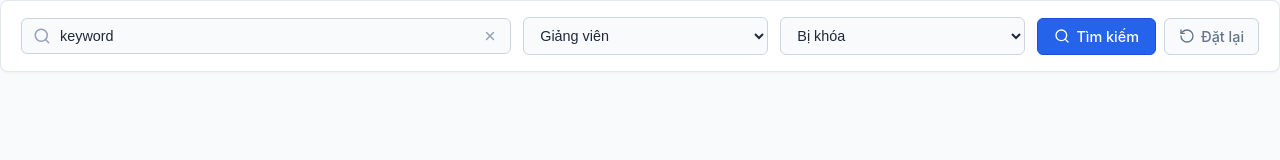
Scenario: SCRUM-91: User Filter Bar Component › 7. click nút Đặt lại xóa toàn bộ bộ lọc về mặc định
This screenshot has width=1280, height=160.
Click the button with test id "btn-filter-reset" at (1212, 36), box [1164, 18, 1259, 54]
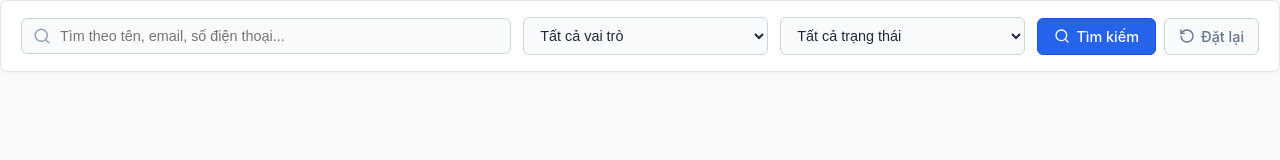
Result: the field with test id "filter-input-search" is empty at [21, 18, 511, 54]
Result: the dropdown with test id "filter-select-role" shows "Tất cả vai trò" at [523, 17, 768, 55]
Result: the dropdown with test id "filter-select-status" shows "Tất cả trạng thái" at [780, 17, 1025, 55]
